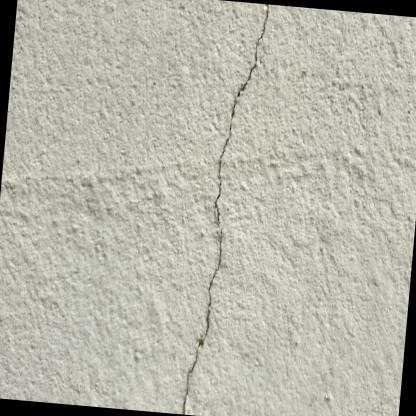crack: (182, 4, 270, 414)
